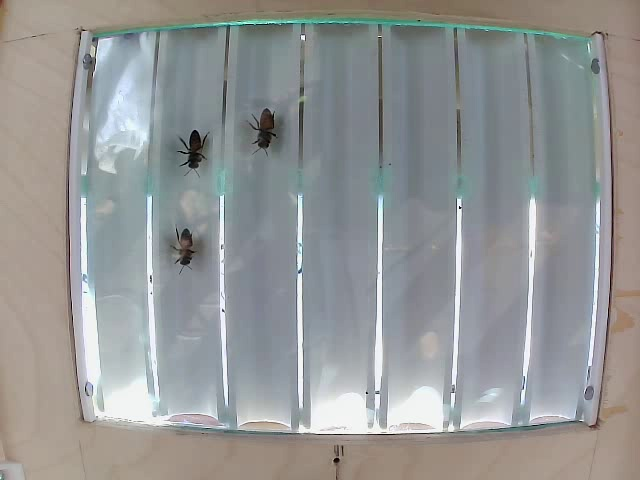bee: (176, 123, 206, 184), (252, 99, 276, 164), (172, 223, 196, 270)
